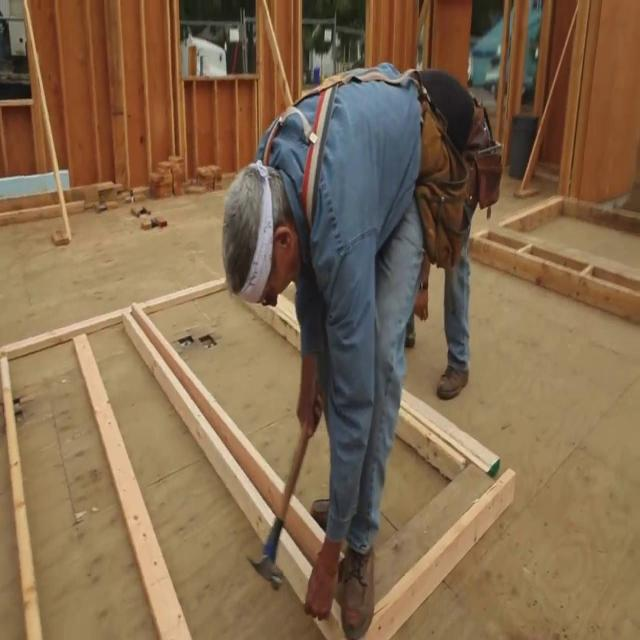hammer: (247, 413, 310, 592)
